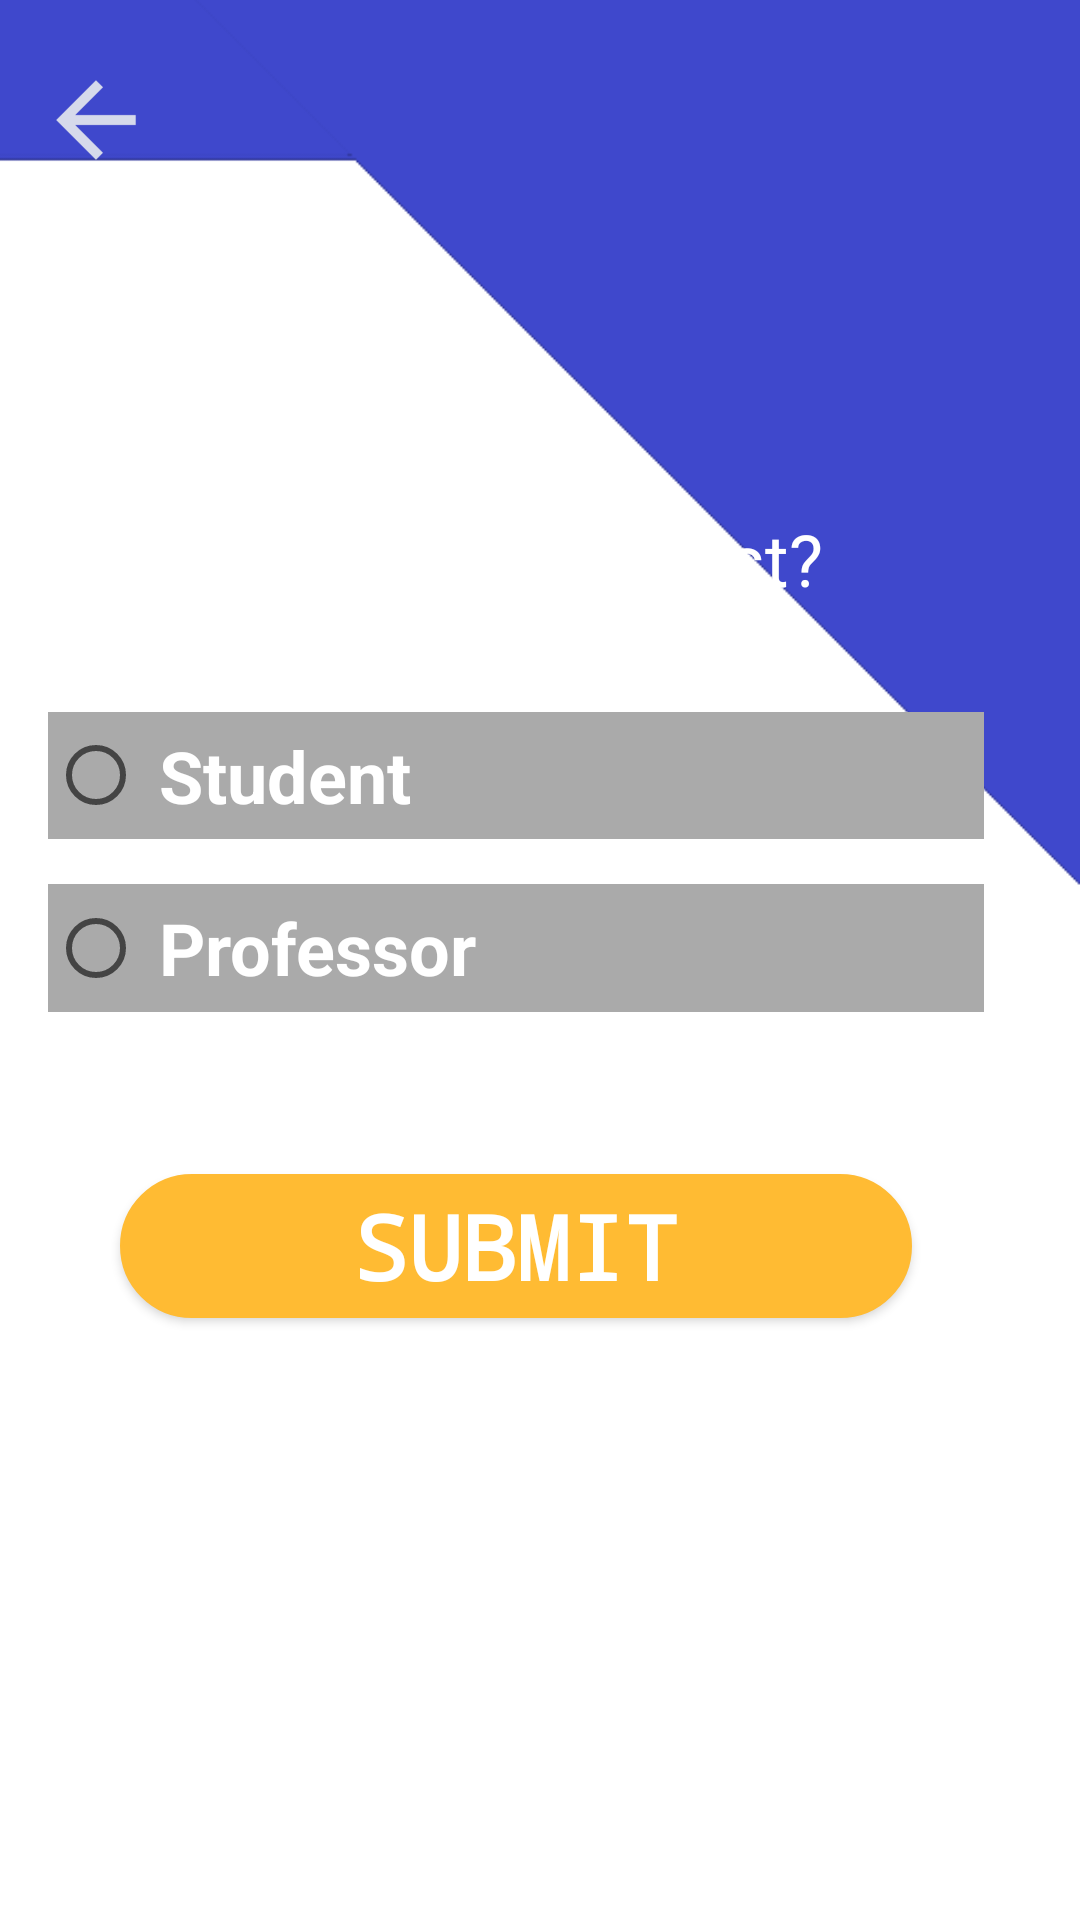

Icon bounding boxes for this 1080x1920 phone screenshot, format (x1, y1, x2, y2):
back arrow: (48, 80, 144, 168)
